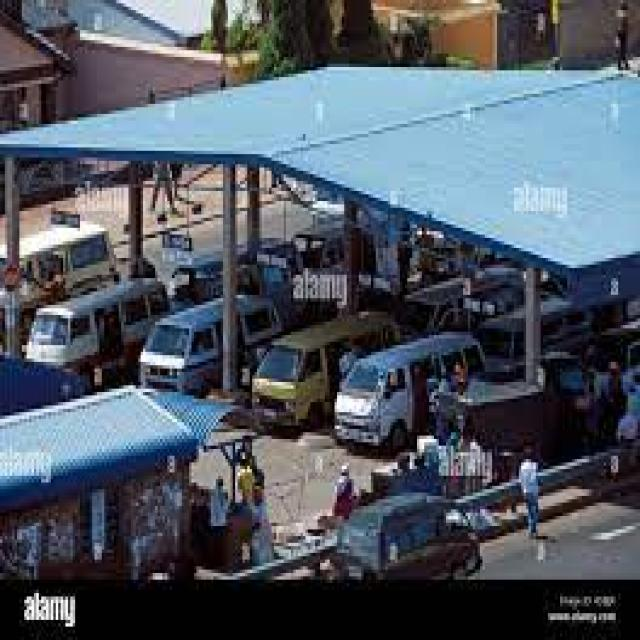MiniBus taxi: (247, 342, 313, 432), (334, 355, 390, 456), (140, 318, 197, 399)
Pedestrians: (509, 442, 553, 543)
